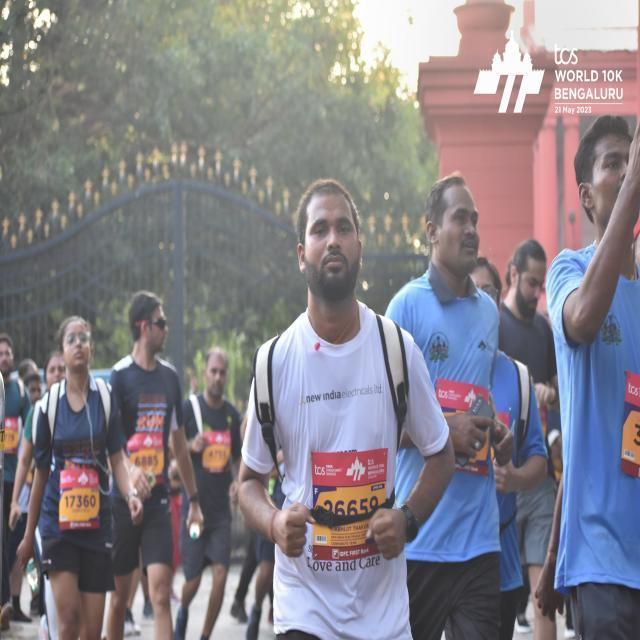dorsal: (310, 451, 386, 556), (60, 467, 102, 532)
